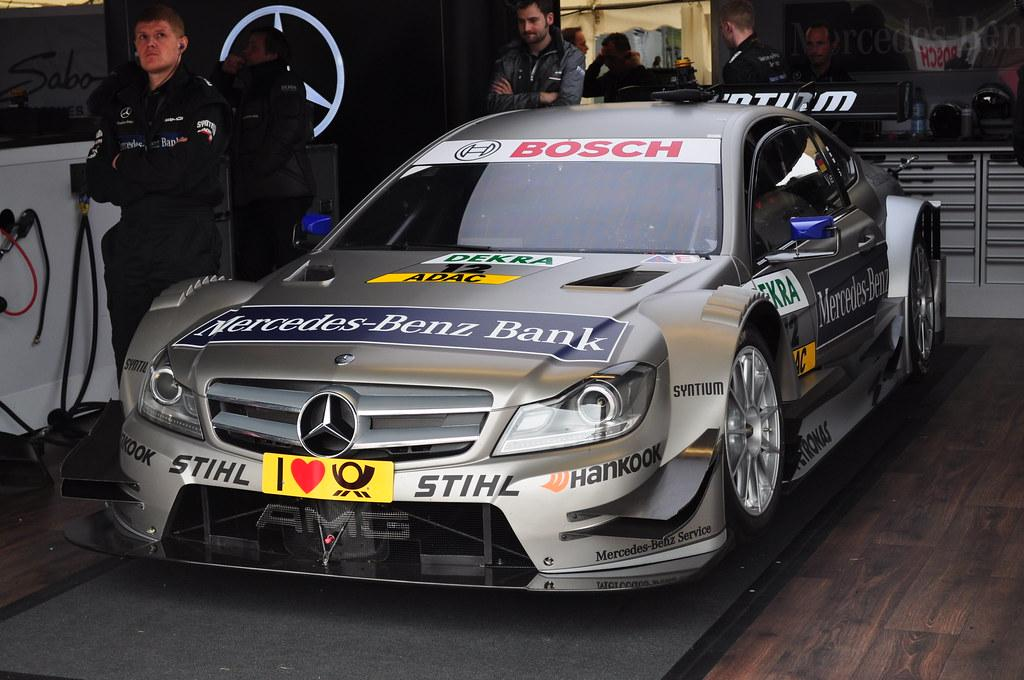car: (60, 85, 948, 598)
